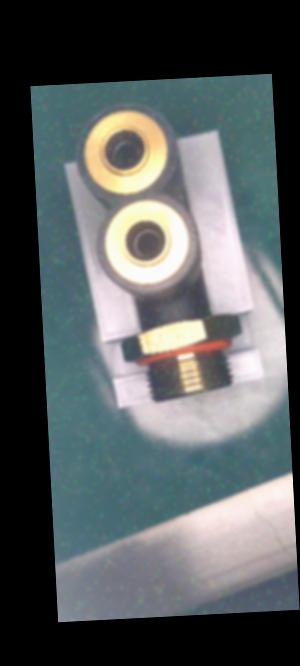craze: (172, 314, 179, 322)
white mark: (172, 304, 179, 313)
